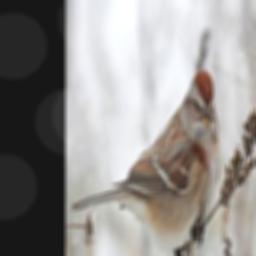Sparrow: (70, 67, 221, 256)
